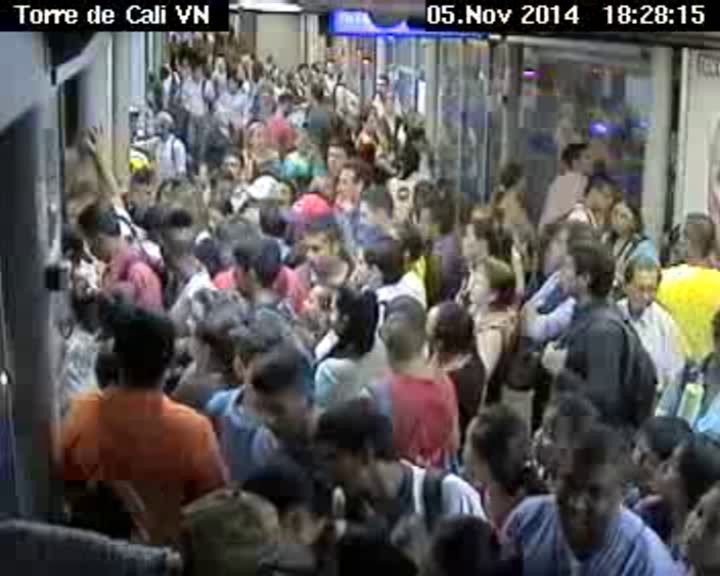person: (304, 393, 405, 497), (164, 485, 282, 574), (543, 423, 623, 535), (232, 452, 323, 542), (416, 497, 515, 576), (66, 458, 152, 546), (242, 340, 317, 425), (102, 307, 173, 392), (309, 514, 406, 576), (460, 400, 534, 479), (625, 408, 695, 490), (646, 433, 720, 508), (530, 386, 588, 471), (179, 301, 247, 373), (676, 468, 720, 572), (378, 293, 429, 376), (560, 237, 617, 306), (421, 292, 474, 360), (295, 221, 356, 279), (467, 251, 519, 317), (328, 283, 377, 350), (153, 212, 197, 278), (227, 236, 281, 289), (620, 251, 665, 312), (81, 201, 125, 260), (189, 284, 234, 339), (356, 233, 401, 285), (298, 274, 339, 330), (456, 215, 503, 261), (682, 207, 715, 268), (353, 185, 393, 232), (337, 157, 371, 208), (418, 194, 454, 241), (580, 169, 614, 215), (258, 198, 288, 248), (609, 193, 640, 239), (153, 179, 189, 211), (558, 140, 592, 173), (495, 159, 525, 194), (202, 199, 232, 234), (130, 166, 156, 206), (324, 138, 352, 174), (210, 169, 236, 204), (221, 147, 245, 183), (245, 121, 270, 155), (148, 111, 174, 143), (271, 176, 298, 206), (359, 109, 382, 136), (276, 91, 294, 118), (408, 124, 425, 152), (254, 87, 273, 110), (211, 51, 228, 75), (213, 101, 229, 126), (306, 83, 324, 104), (154, 59, 172, 79), (321, 59, 336, 79), (375, 74, 389, 95), (228, 75, 243, 94), (190, 61, 202, 80), (334, 72, 347, 87)
